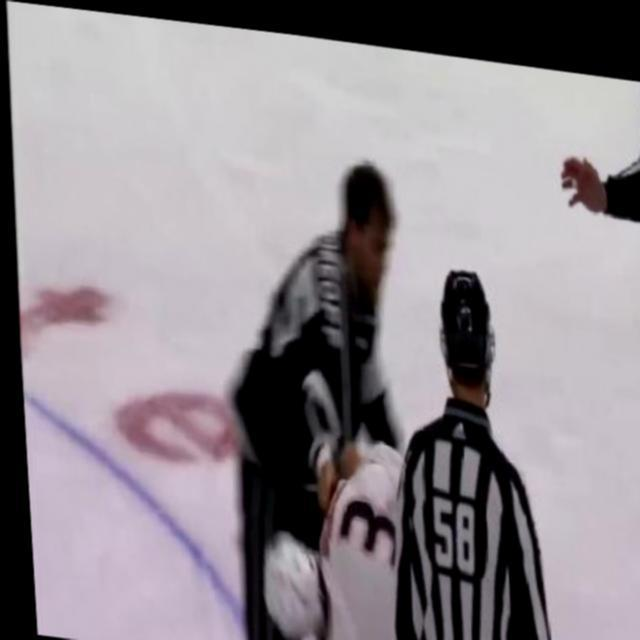fight: (197, 121, 416, 640)
